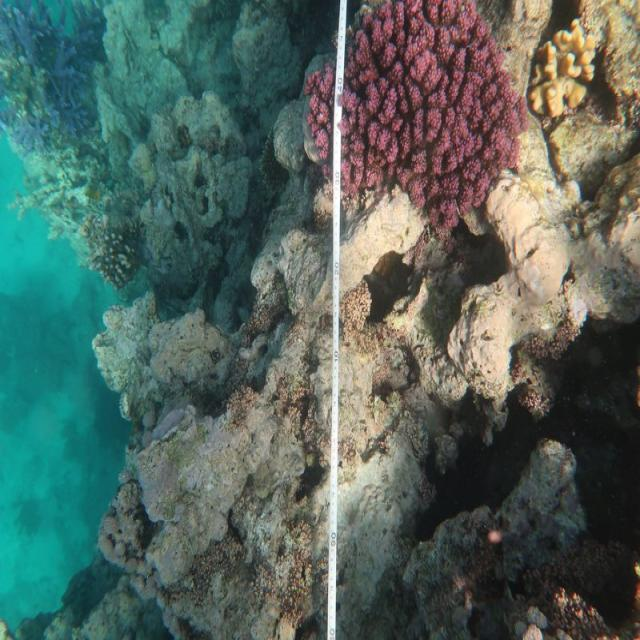Healthy Coral: (292, 0, 527, 221), (523, 15, 610, 129)
